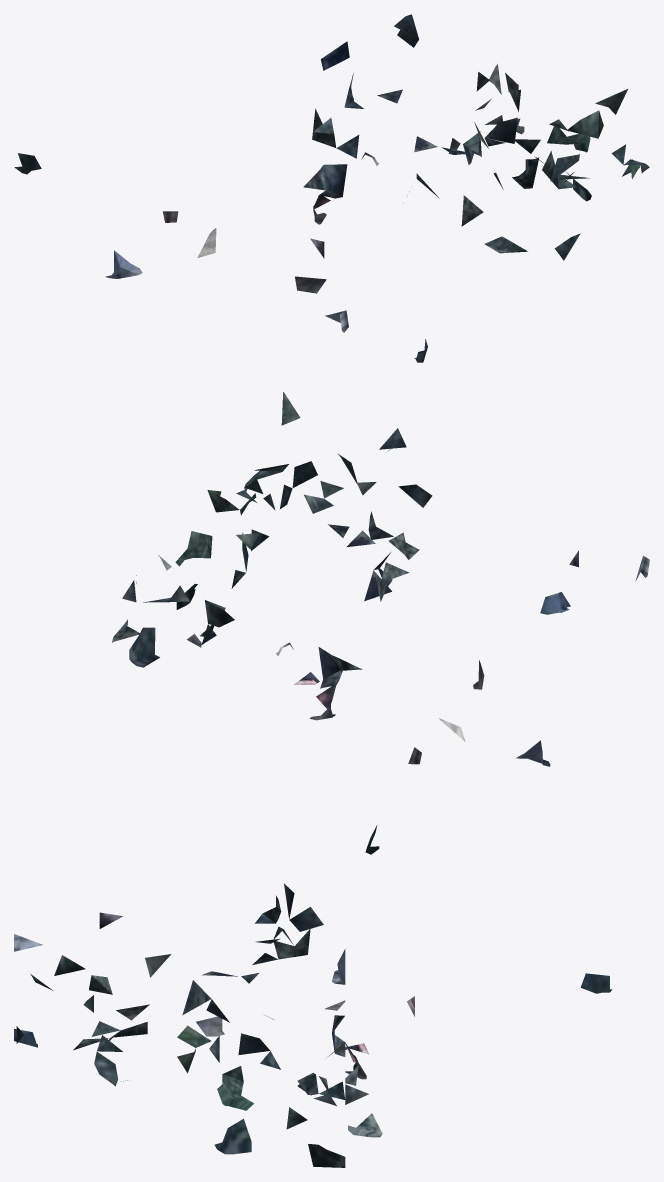
3 renders of one model, top to bottom at view 1: azimuth 30°, elevation 25°; view 2: azimuth 150°, elevation 25°; view 3: azimuth 270°, elevation 25°, orthographic.
Parts seen in each view (by area): view 1: 30436272704361426417_1; view 2: 30436272704361426417_1; view 3: 30436272704361426417_1.
Part boxes in pixels (<box>): 30436272704361426417_1: <box>14,14,649,362</box>; 30436272704361426417_1: <box>112,392,649,854</box>; 30436272704361426417_1: <box>14,883,612,1167</box>.
Bounding box in the file's own units: 27.77 × 13.71 × 36.71.
Materials: 1 (1 with a texture image).
